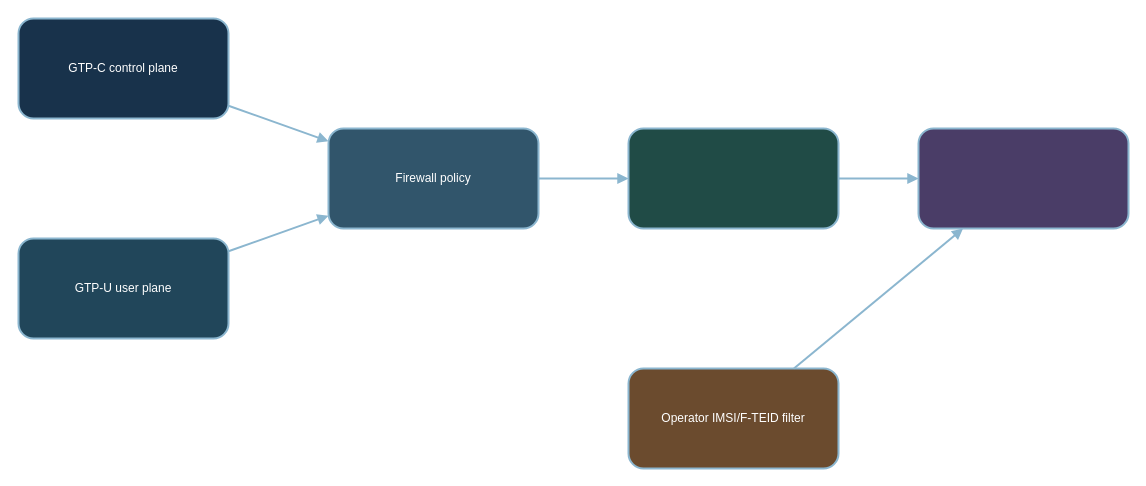
Image size: 1146x486. Some labels were removed from this diagram. The shapes that lost their labels are listed below. From the top down, each one's centre as x and y in pixels, then its label:
At (x=733, y=178): "GTP inspection profile".
At (x=1023, y=178): "Subscriber tunnel table".
